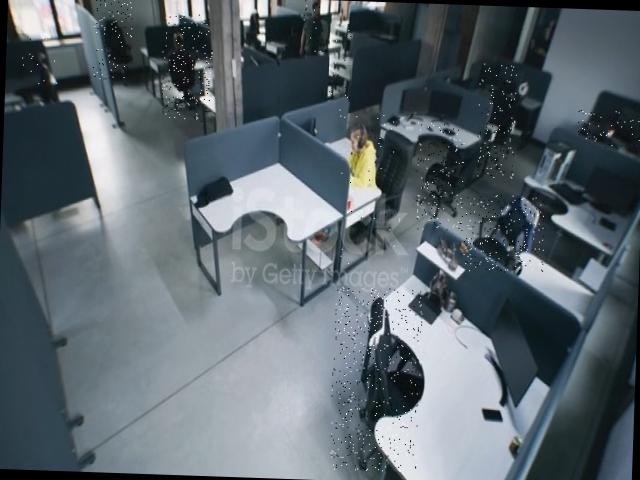empty chair: (329, 286, 424, 472), (464, 194, 546, 274), (414, 121, 466, 231), (477, 63, 518, 178), (92, 0, 133, 80), (21, 37, 63, 95), (328, 24, 353, 102)
occupiedchair: (334, 108, 406, 268), (160, 14, 213, 122), (577, 109, 640, 144)
